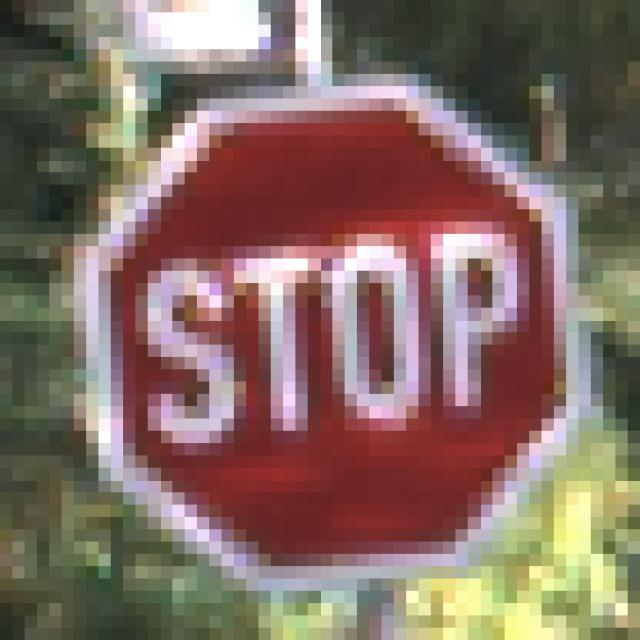STOP: (75, 75, 567, 579)
